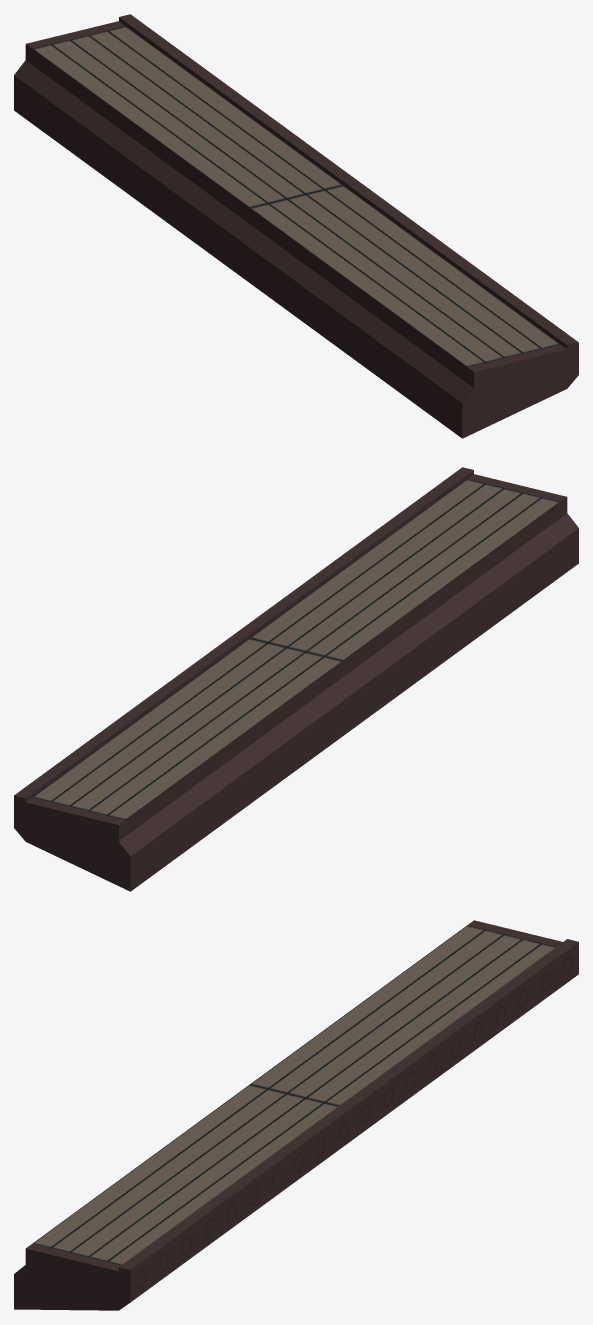
File: SW_ENV_EL_TrackBase_Walkway_Side_10m.fbx
The picture shows the model from 3 angles, top to bottom: view 1: azimuth 30°, elevation 25°; view 2: azimuth 150°, elevation 25°; view 3: azimuth 330°, elevation 25°; orthographic projection.
Parts seen in each view (by area): view 1: SW_ENV_EL_TrackBase_Walkway_Side_10m; view 2: SW_ENV_EL_TrackBase_Walkway_Side_10m; view 3: SW_ENV_EL_TrackBase_Walkway_Side_10m.
Boxes of the visible parts, x1,y1,x2,y2 form: SW_ENV_EL_TrackBase_Walkway_Side_10m: (14, 14, 578, 438); SW_ENV_EL_TrackBase_Walkway_Side_10m: (14, 467, 578, 891); SW_ENV_EL_TrackBase_Walkway_Side_10m: (14, 920, 578, 1310).
Size of the model in its own units: 150 by 83.5 by 1000.
